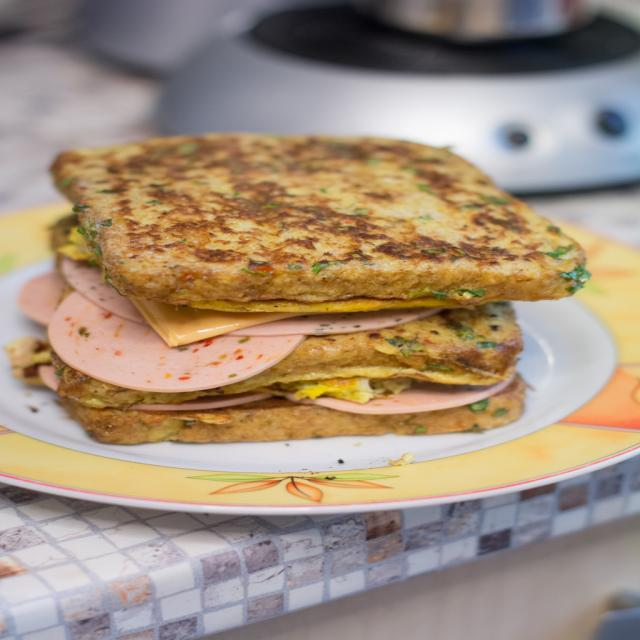Sandwich: (7, 133, 597, 441)
